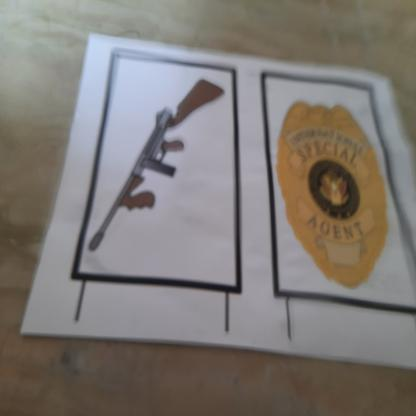Bootlegger: (88, 71, 228, 258)
G-man: (273, 97, 400, 299)
